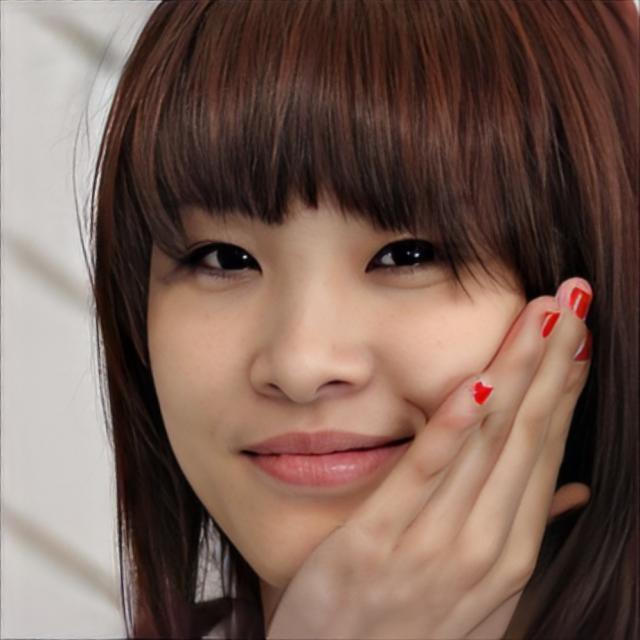happy: (144, 101, 543, 587)
